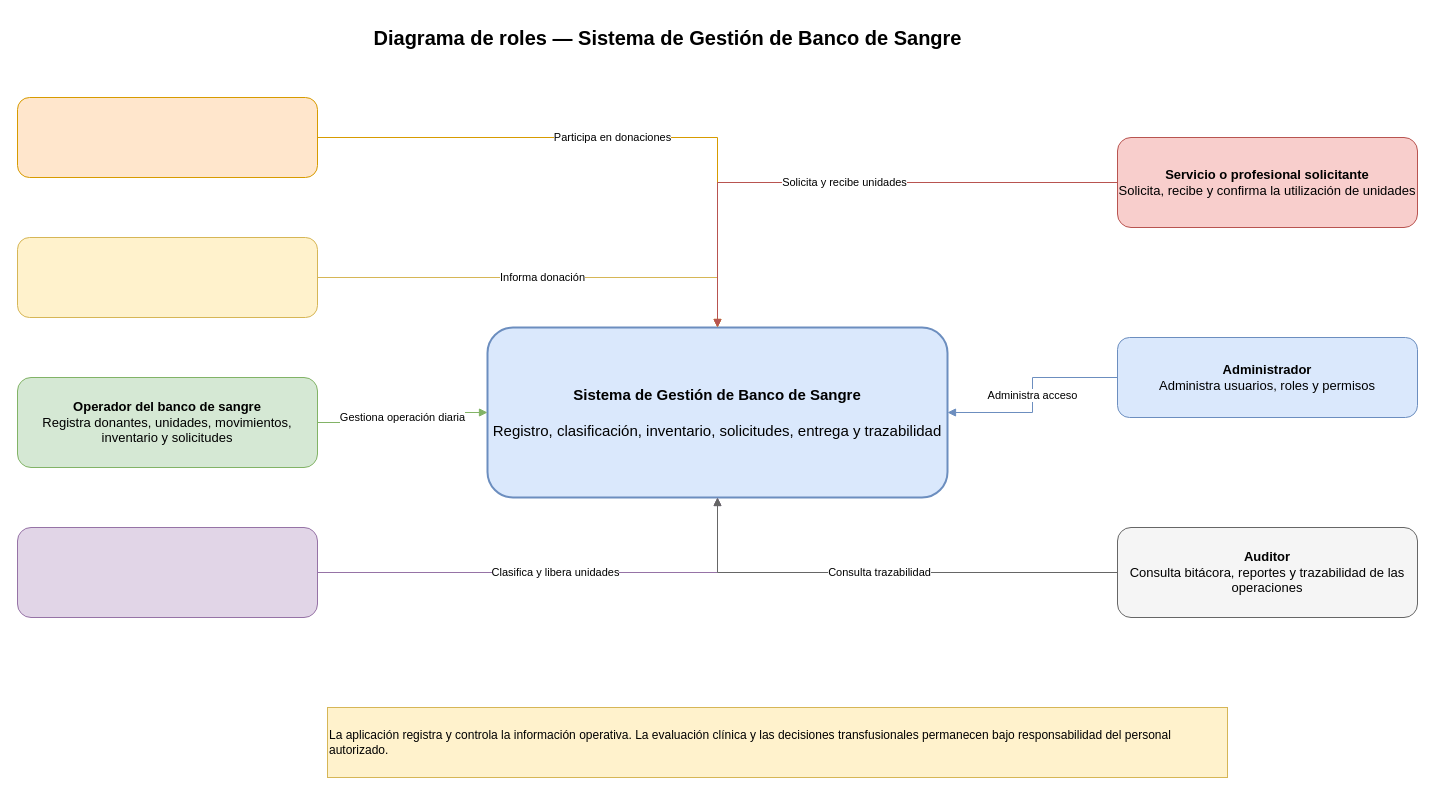
The diagram is 1435 pixels wide and 795 high, and some of its shapes have lost their labels. The box of each missing label's shape, as (x1, y1, x2, y2) in pixels:
Donante Participa en la donación; no necesariamente utiliza el sistema: (16, 96, 318, 178)
Personal de extracción Informa los datos de la donación realizada: (16, 236, 318, 318)
Personal responsable Revisa la información y libera, bloquea o descarta unidades: (16, 526, 318, 618)
